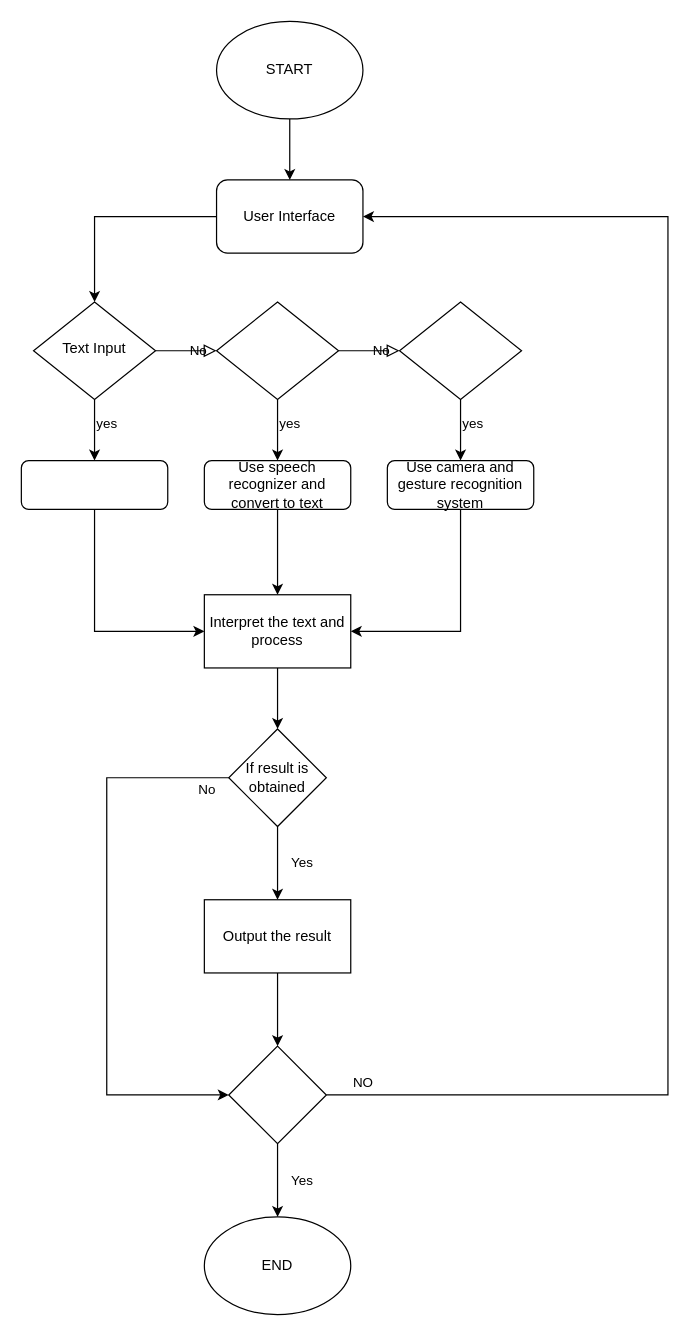
Some shapes in this 699 by 1336 pixel diagram are drawn without their labels. The shapes that lost their labels are listed below. From the top down, each one's centre as x and y in pixels, then its label:
At pixel 277 350: "Audio Input".
At pixel 460 350: "Video Input".
At pixel 94 484: "Take the text from the UI".
At pixel 277 1094: "Exit".
